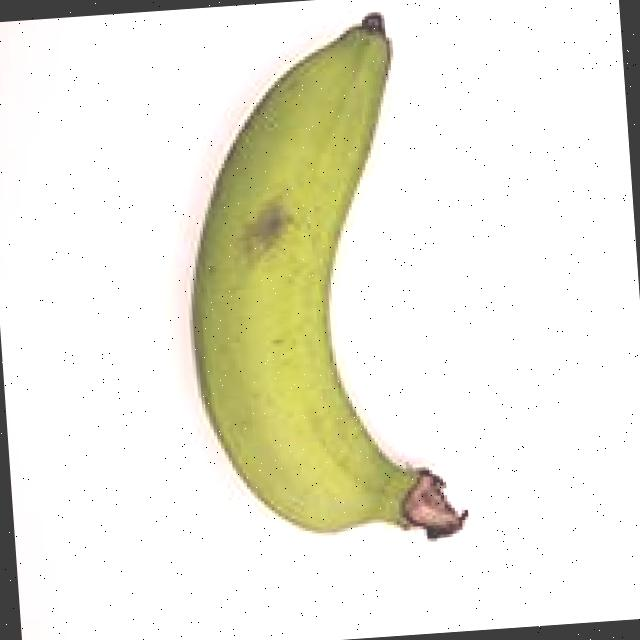Raw: (141, 0, 497, 585)
